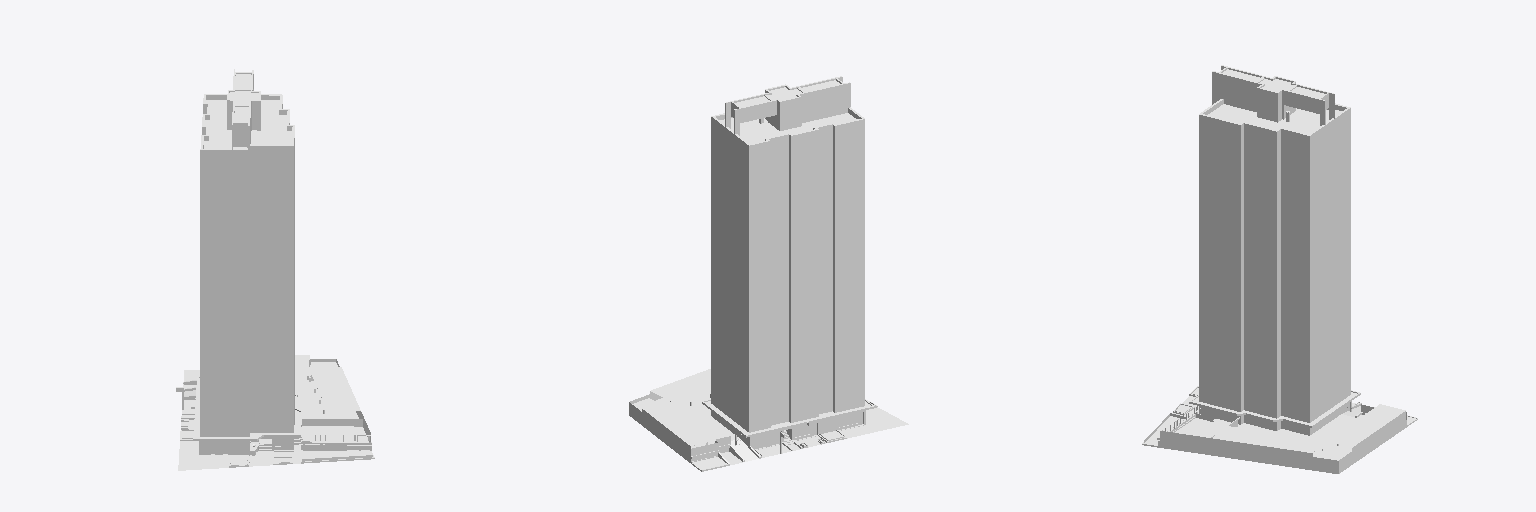
File: apartment.obj
3 views of the same model, side by side, from view 1: azimuth 30°, elevation 25°; view 2: azimuth 150°, elevation 25°; view 3: azimuth 270°, elevation 25° (orthographic).
Visible parts, largest first — view 1: Layer0_001; view 2: Layer0_001; view 3: Layer0_001.
Boxes of the visible parts, <box> form: Layer0_001: <box>176,69,374,470</box>; Layer0_001: <box>629,76,908,471</box>; Layer0_001: <box>1142,65,1417,473</box>.
Bounding box in the file's own units: 189 × 271 × 206.